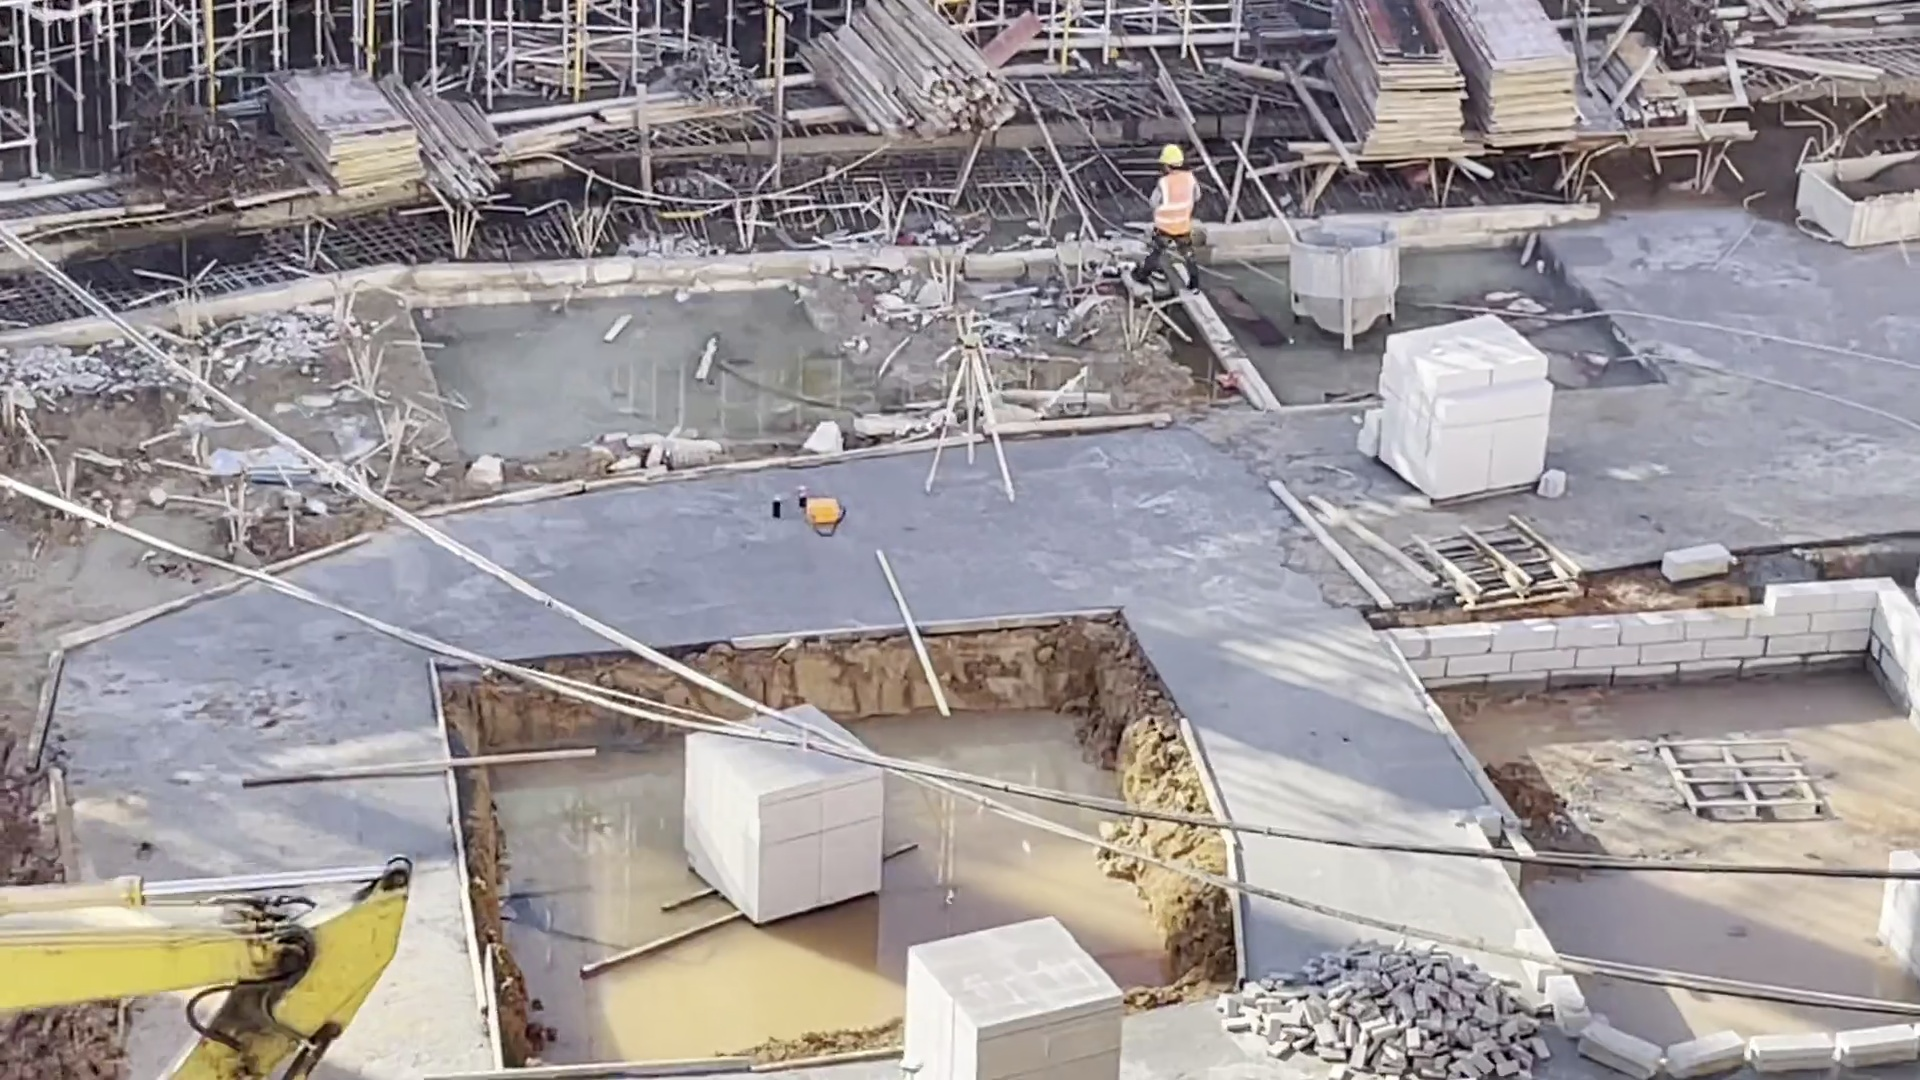board: (1327, 1, 1465, 179), (1453, 1, 1584, 169), (280, 59, 440, 193)
brick: (1215, 932, 1562, 1080), (676, 696, 887, 929), (1370, 309, 1559, 522), (901, 915, 1118, 1080)
helmet: (1156, 146, 1184, 166)
hopper: (1284, 210, 1399, 347), (1799, 143, 1920, 250)
person: (1149, 145, 1200, 286)
vest: (1154, 174, 1196, 238)
wood: (807, 1, 1023, 151)
